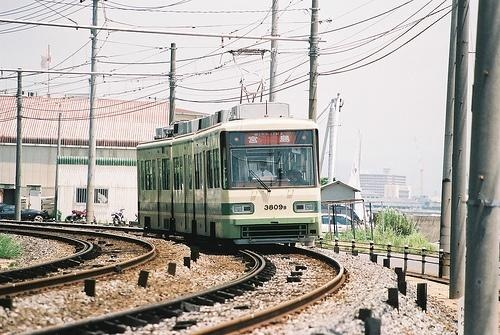train: (138, 50, 323, 249)
